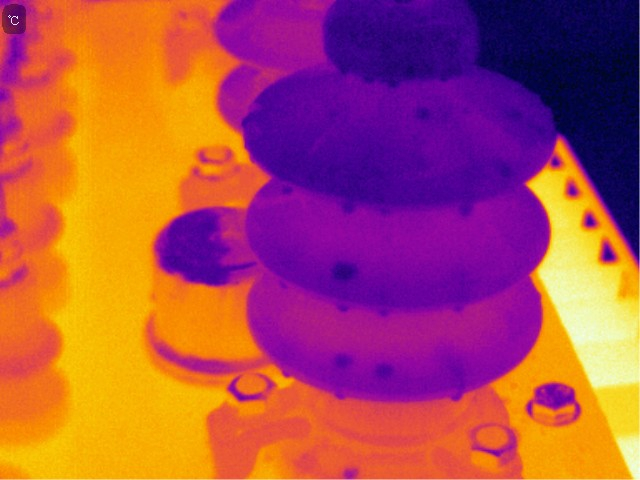Water: (447, 364, 470, 404), (326, 260, 361, 282), (242, 138, 261, 166), (329, 386, 354, 404), (536, 122, 554, 146), (502, 104, 524, 123), (338, 194, 357, 215), (334, 352, 353, 373), (374, 362, 394, 381), (439, 37, 459, 56), (456, 197, 474, 218), (494, 161, 515, 178), (446, 301, 473, 314), (412, 104, 432, 120), (273, 276, 293, 292), (377, 204, 397, 220), (240, 111, 257, 129), (440, 63, 454, 84), (277, 365, 295, 381), (332, 300, 352, 314), (379, 39, 394, 56), (404, 64, 418, 82), (281, 182, 295, 199), (374, 305, 392, 318), (413, 28, 426, 46), (335, 63, 349, 79), (326, 108, 342, 122), (386, 76, 400, 91), (360, 74, 379, 85)
